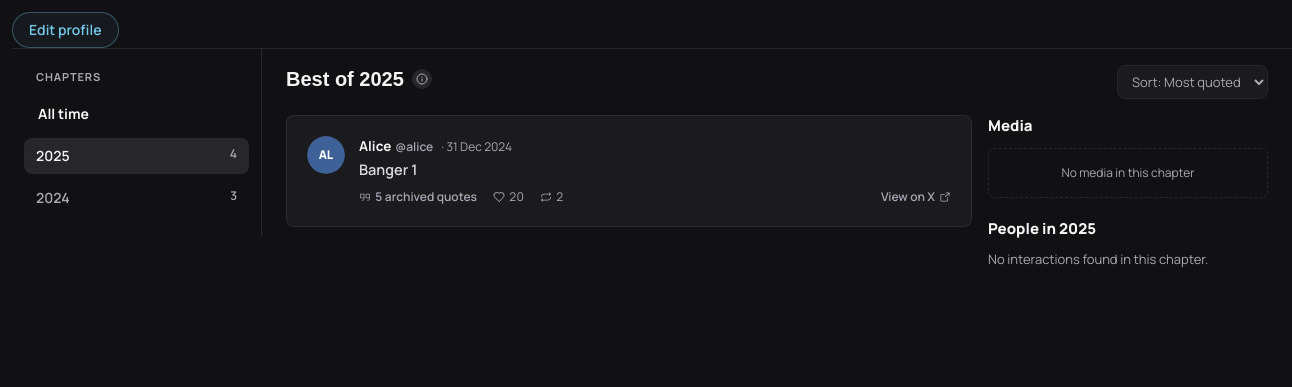
Test case: returns to all time when edit mode starts from a year chapter
The image size is (1292, 387).
Expected: the link "2025 4" is shown, [24,138,249,174]
Click the button "Edit profile" at (65,30), box [12,12,118,48]
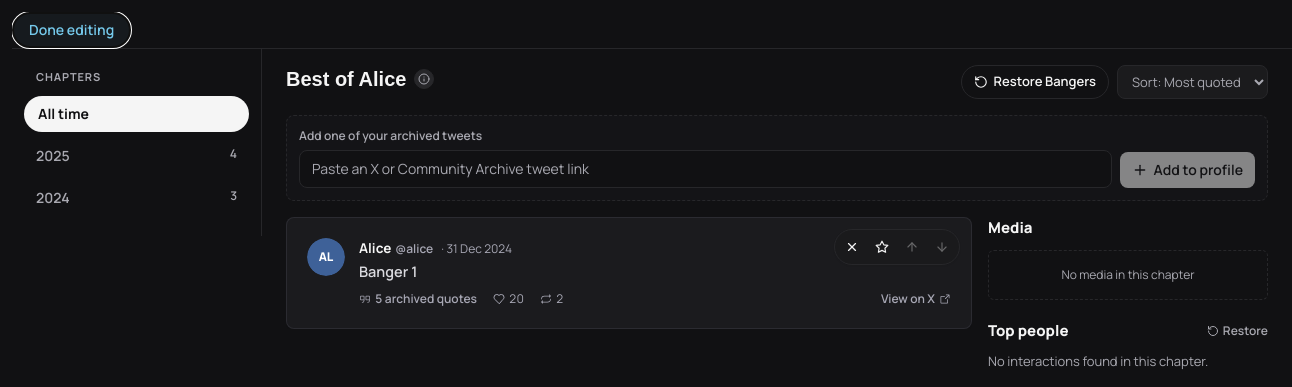
Expected: the link "All time" is shown, [24,96,249,132]
Expected: the button "Restore Bangers" is shown, [961,65,1109,99]
